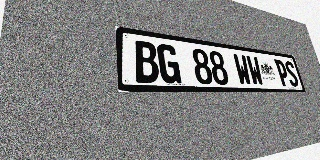8: (191, 48, 214, 84), (208, 50, 229, 85)
B: (133, 40, 160, 83)
G: (156, 43, 182, 84)
P: (274, 59, 291, 86)
S: (283, 60, 300, 87)
W: (232, 54, 252, 85), (245, 55, 265, 86)
